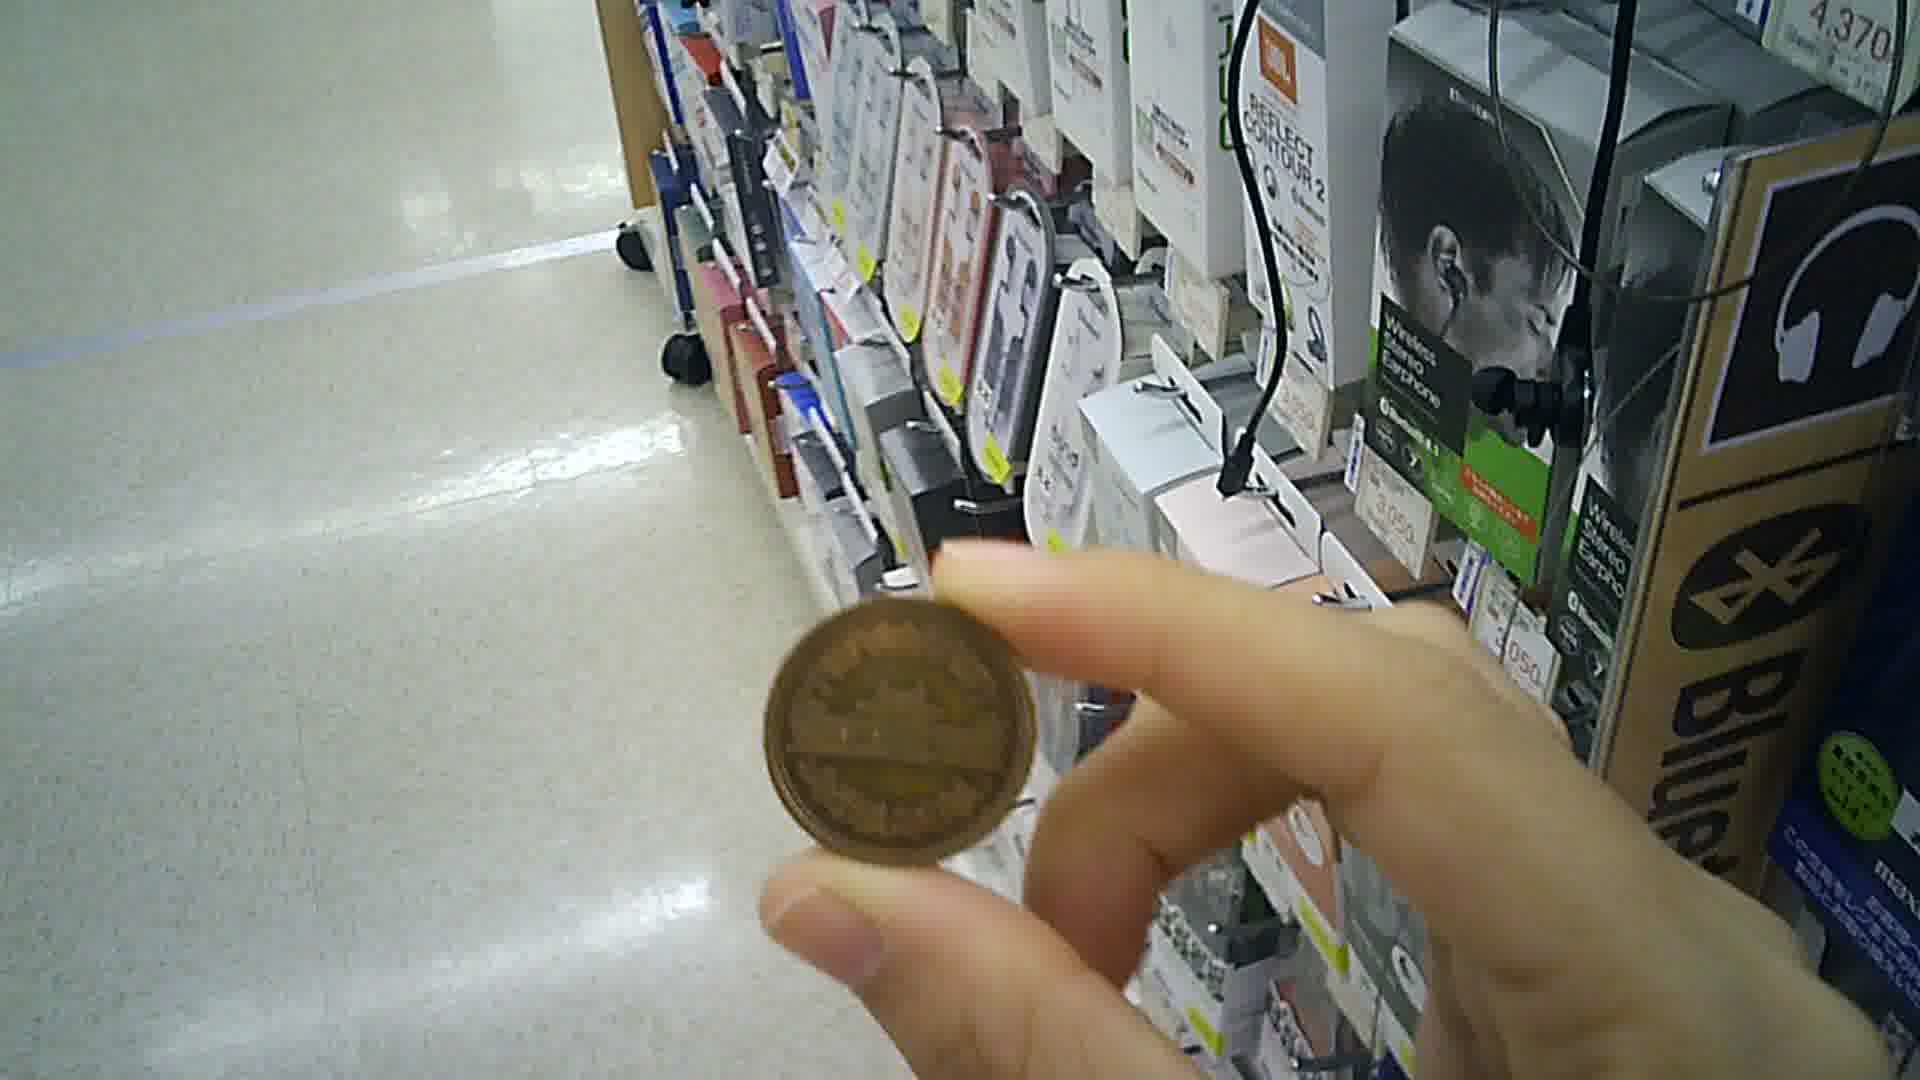10 Yen: (766, 597, 1038, 869)
